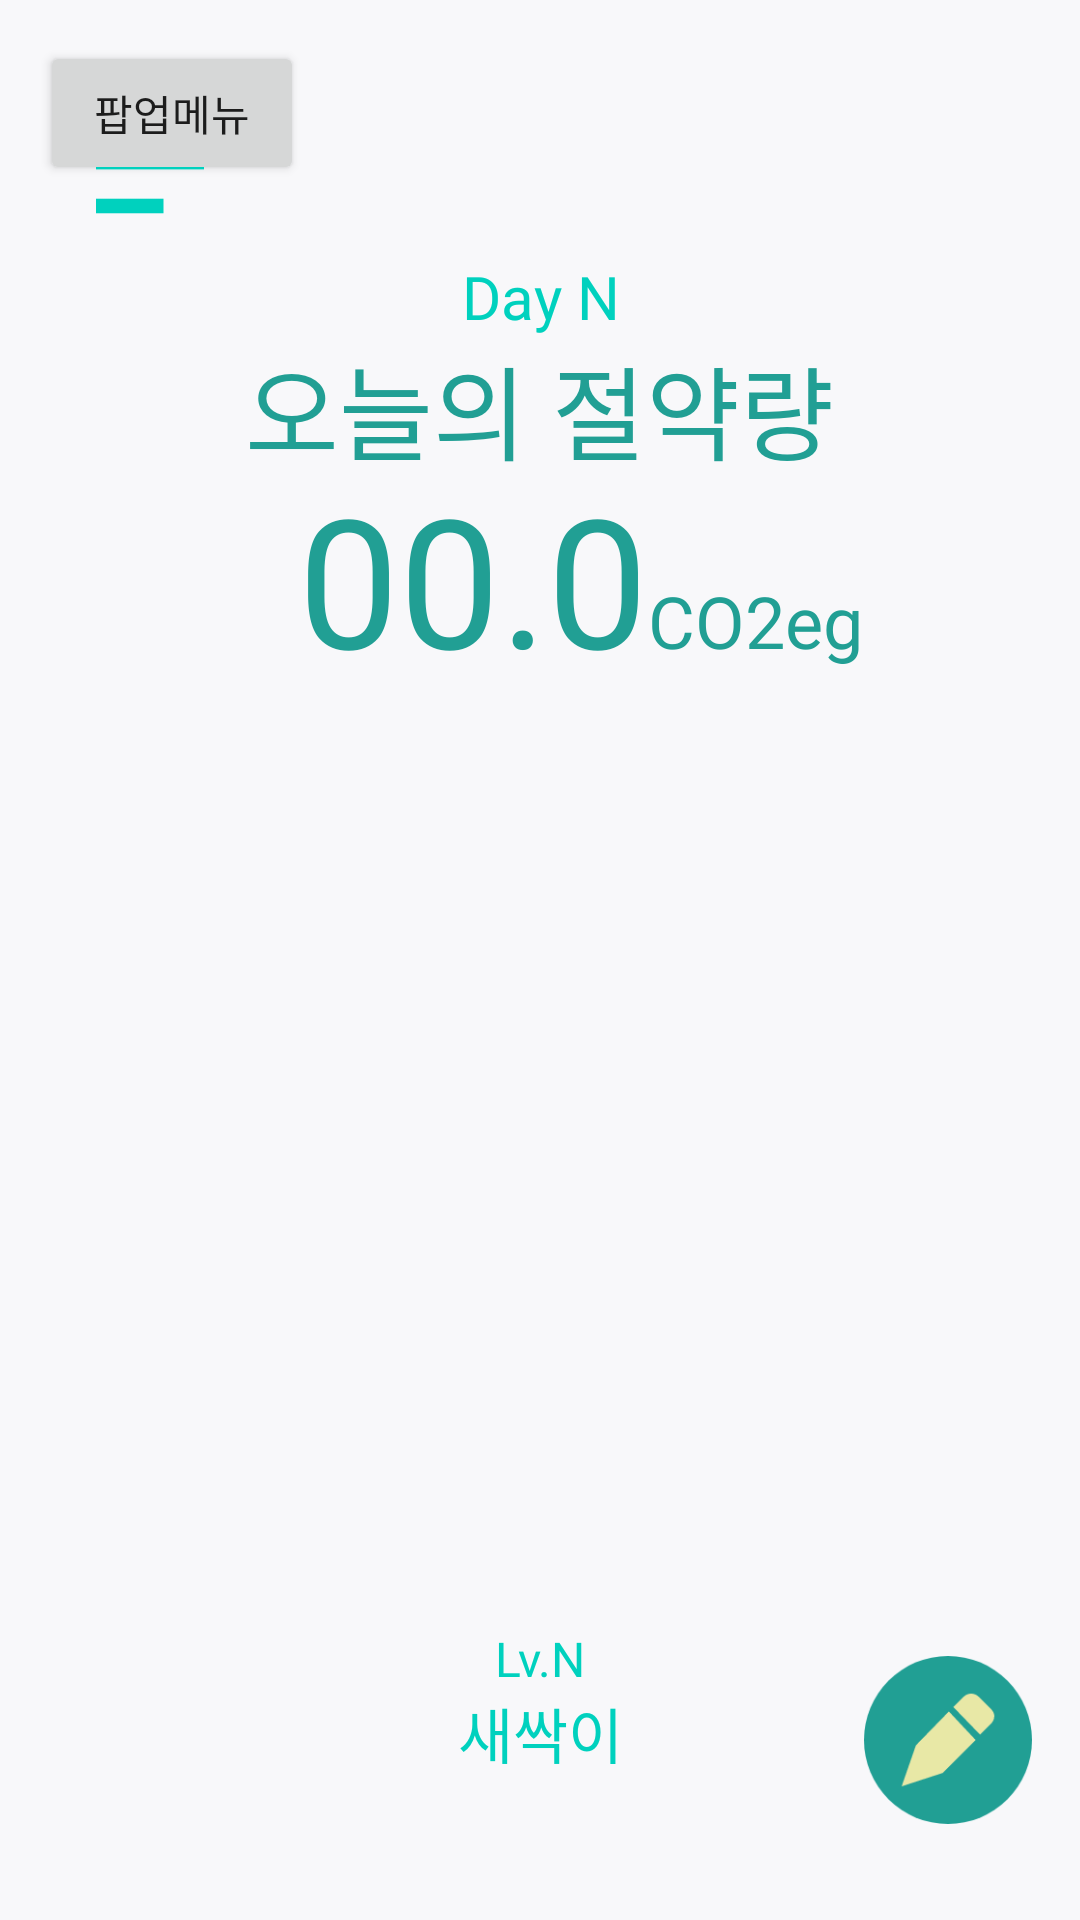

Locate icon controls on the screen. Image size 1080px×1920px, boxes as (x1, y1, x2, y2).
recordfloating: (864, 1656, 1032, 1824)
